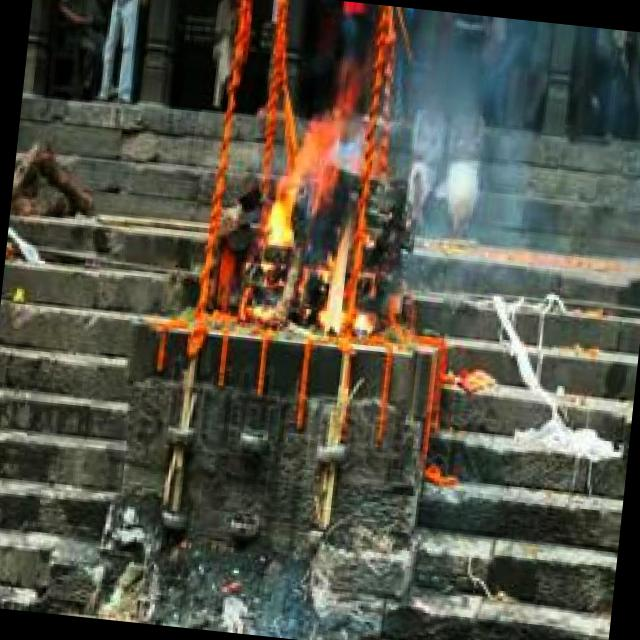fire: (251, 75, 383, 336)
